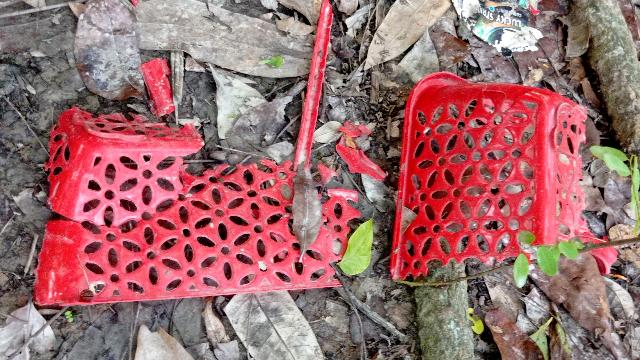hardplastic: (29, 103, 366, 315), (393, 74, 608, 305)
